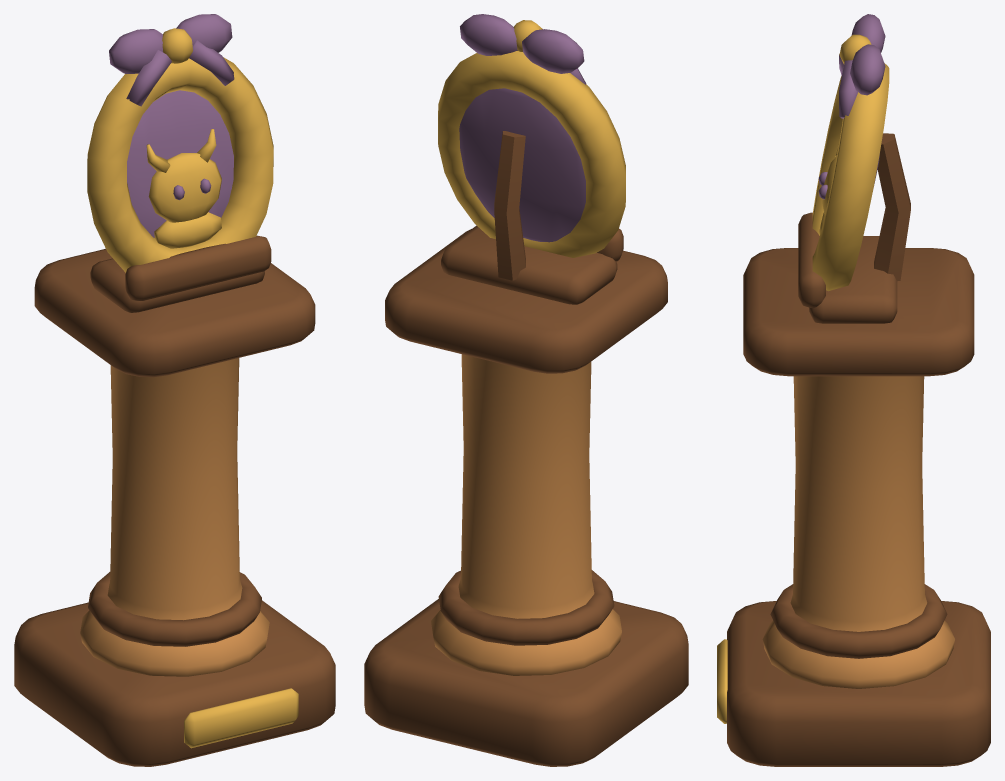
Rendered from ShopPortraitPedestal.fbx.
3 renders of one model, left to right at view 1: azimuth 30°, elevation 25°; view 2: azimuth 150°, elevation 25°; view 3: azimuth 270°, elevation 25°, orthographic.
Parts seen in each view (by area): view 1: ShopPortraitPedestal; view 2: ShopPortraitPedestal; view 3: ShopPortraitPedestal.
Boxes of the visible parts, box(x1,y1,x2,y2) form: ShopPortraitPedestal: box(14, 14, 335, 766); ShopPortraitPedestal: box(364, 14, 688, 766); ShopPortraitPedestal: box(717, 14, 990, 766).
Size of the model in its own units: 0.48 by 1.36 by 0.498.
